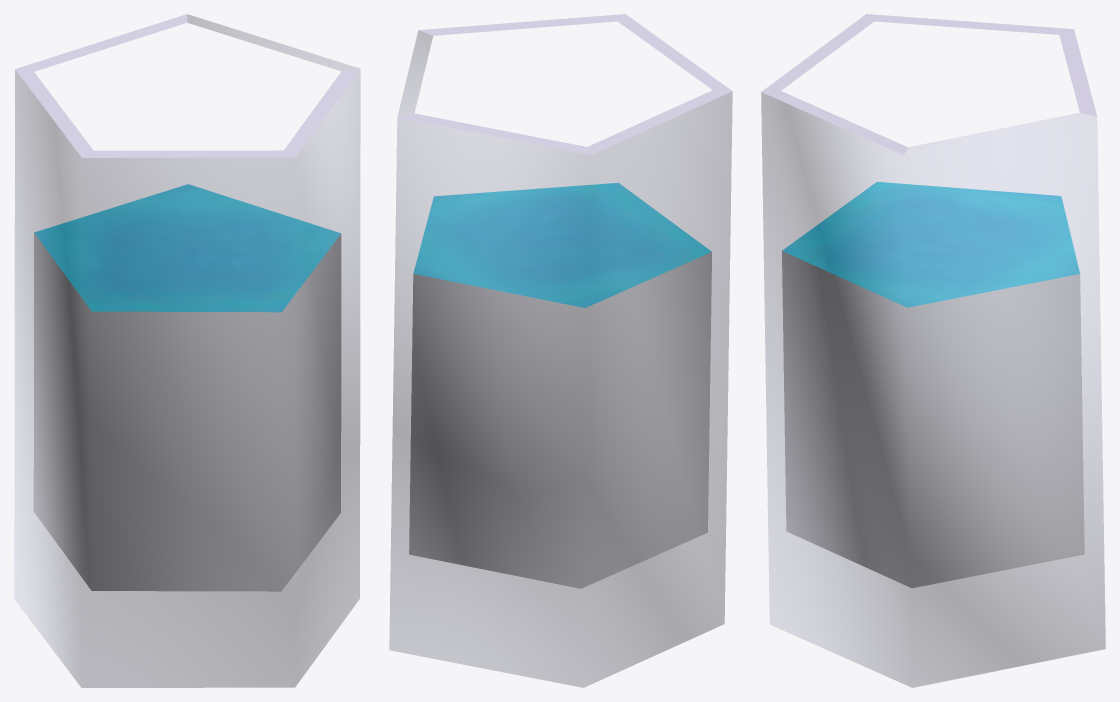
Rendered from glass.glb.
The picture shows the model from 3 angles, left to right: view 1: azimuth 30°, elevation 25°; view 2: azimuth 150°, elevation 25°; view 3: azimuth 270°, elevation 25°; orthographic projection.
Parts seen in each view (by area): view 1: joint_scale_glass_all, scale_joint_water; view 2: joint_scale_glass_all, scale_joint_water; view 3: joint_scale_glass_all, scale_joint_water.
Boxes of the visible parts, box(x1,y1,x2,y2) form: joint_scale_glass_all: box(14, 14, 360, 687); scale_joint_water: box(33, 184, 341, 591); joint_scale_glass_all: box(389, 14, 732, 687); scale_joint_water: box(409, 183, 711, 588); joint_scale_glass_all: box(761, 14, 1105, 687); scale_joint_water: box(782, 182, 1084, 588).
Bounding box in the file's own units: 0.1349 × 0.2308 × 0.1346.
Materials: 4 (1 with a texture image).
